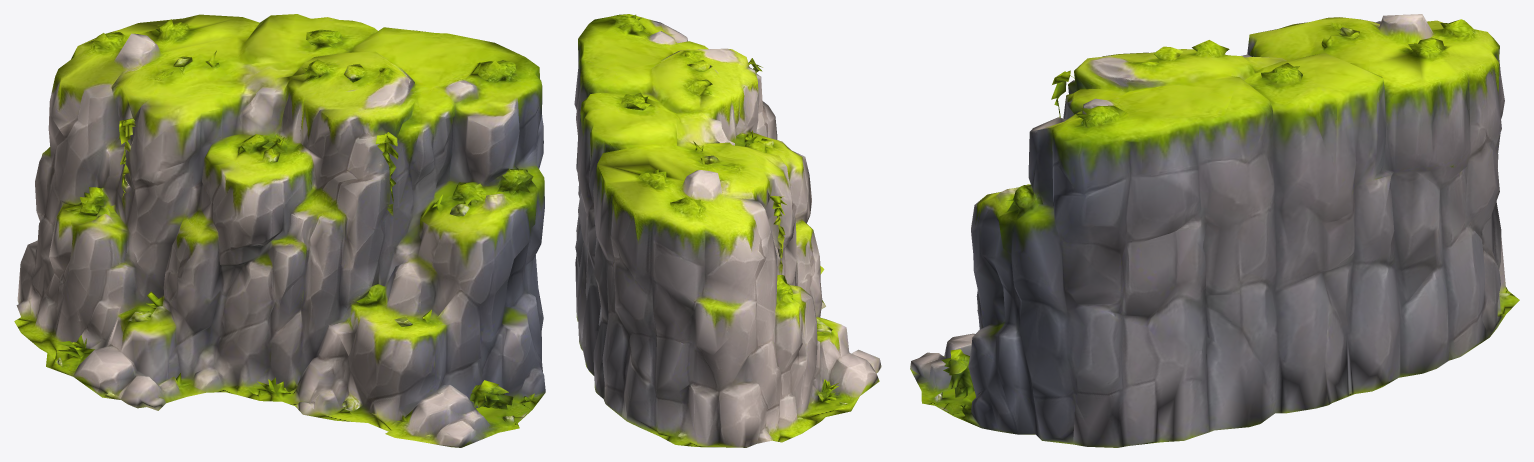
3 views of the same model, side by side, from view 1: azimuth 30°, elevation 25°; view 2: azimuth 150°, elevation 25°; view 3: azimuth 270°, elevation 25° (orthographic). The views are drawn at different scales.
Parts seen in each view (by area): view 1: prop; view 2: prop; view 3: prop.
Part boxes in pixels (x1=…): prop: x1=14, y1=14, x2=545, y2=447; prop: x1=574, y1=14, x2=881, y2=447; prop: x1=910, y1=14, x2=1519, y2=447.
Bounding box in the file's own units: 1.38 × 0.9914 × 1.67.
1 material, 1 textured.
